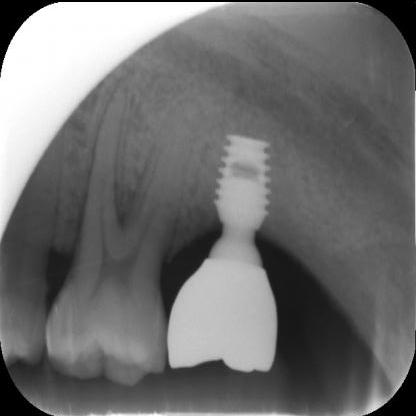Bicon: (205, 128, 277, 258)
